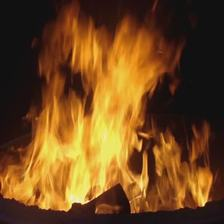fire: (2, 10, 222, 212)
